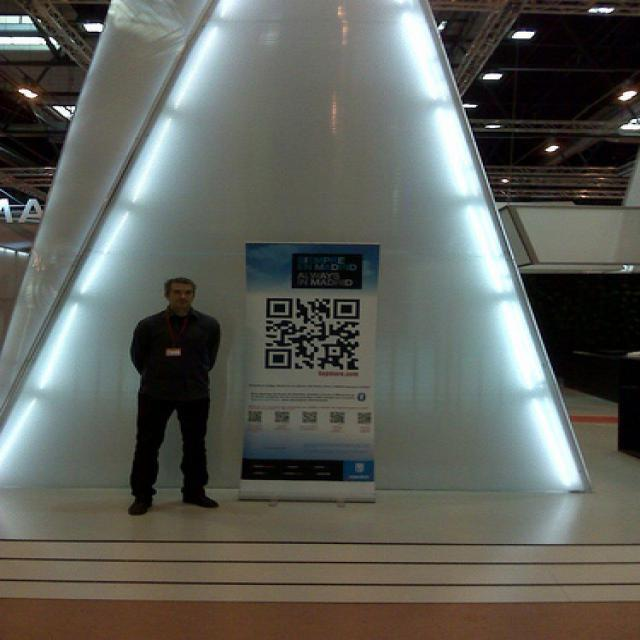qrcode: (266, 299, 360, 370), (359, 413, 372, 424), (276, 412, 290, 422), (331, 414, 344, 424), (250, 412, 262, 422), (305, 413, 317, 423)
